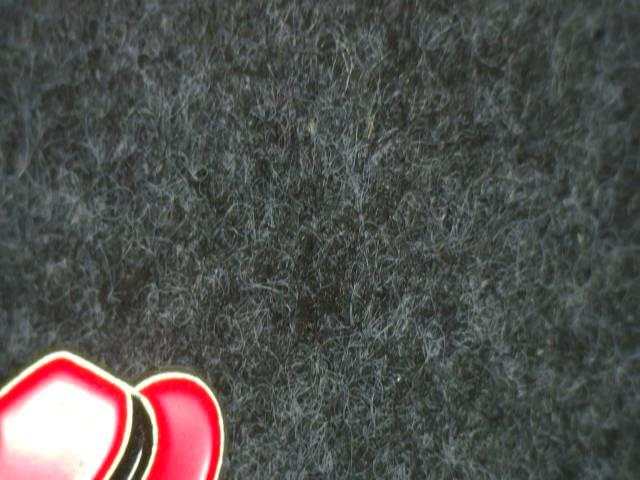Red-Hat: (0, 328, 241, 480)
